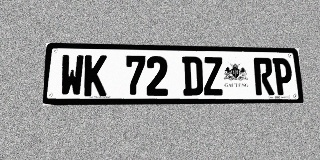2: (147, 56, 168, 96)
7: (124, 55, 146, 96)
D: (182, 56, 203, 96)
K: (84, 55, 107, 96)
P: (272, 58, 294, 95)
R: (253, 58, 275, 95)
W: (60, 54, 84, 96)
Z: (203, 57, 224, 95)
